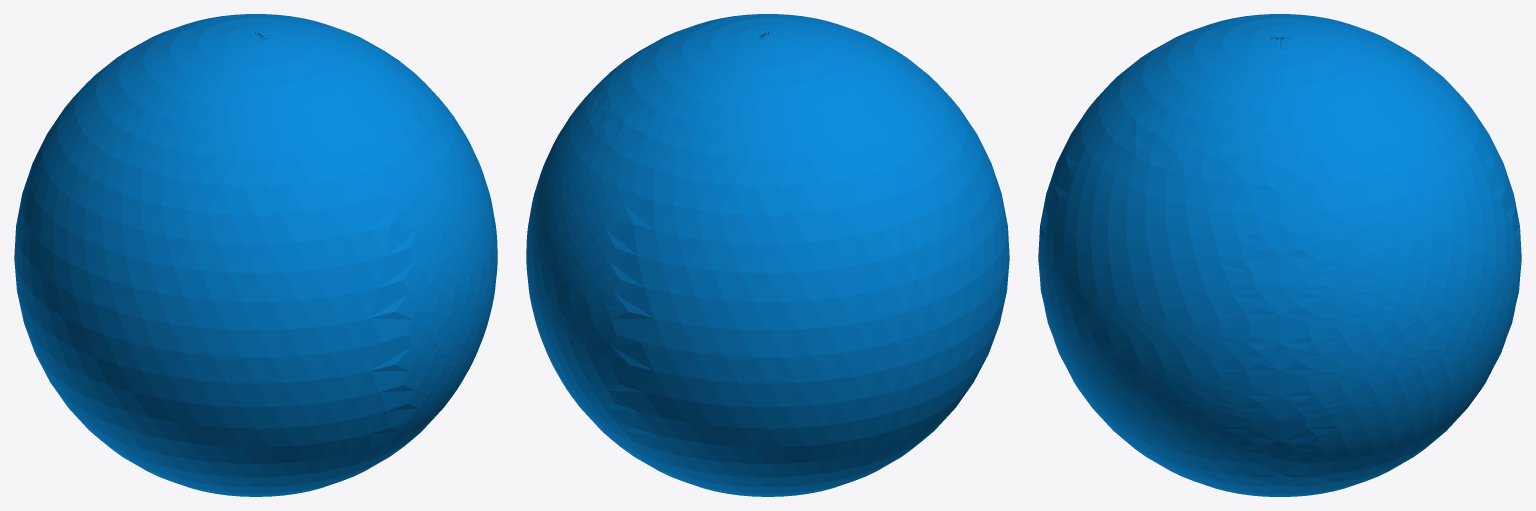
The model's file is bola_dia_0_5m.dae.
3 renders of one model, left to right at view 1: azimuth 30°, elevation 25°; view 2: azimuth 150°, elevation 25°; view 3: azimuth 270°, elevation 25°, orthographic.
Visible parts, largest first — view 1: skpmUa14S; view 2: skpmUa14S; view 3: skpmUa14S.
Boxes of the visible parts, left/top/right/bottom form: skpmUa14S: left=14, top=14, right=497, bottom=496; skpmUa14S: left=526, top=14, right=1009, bottom=496; skpmUa14S: left=1038, top=14, right=1521, bottom=496.
Size of the model in its own units: 19.67 by 19.68 by 19.69.
